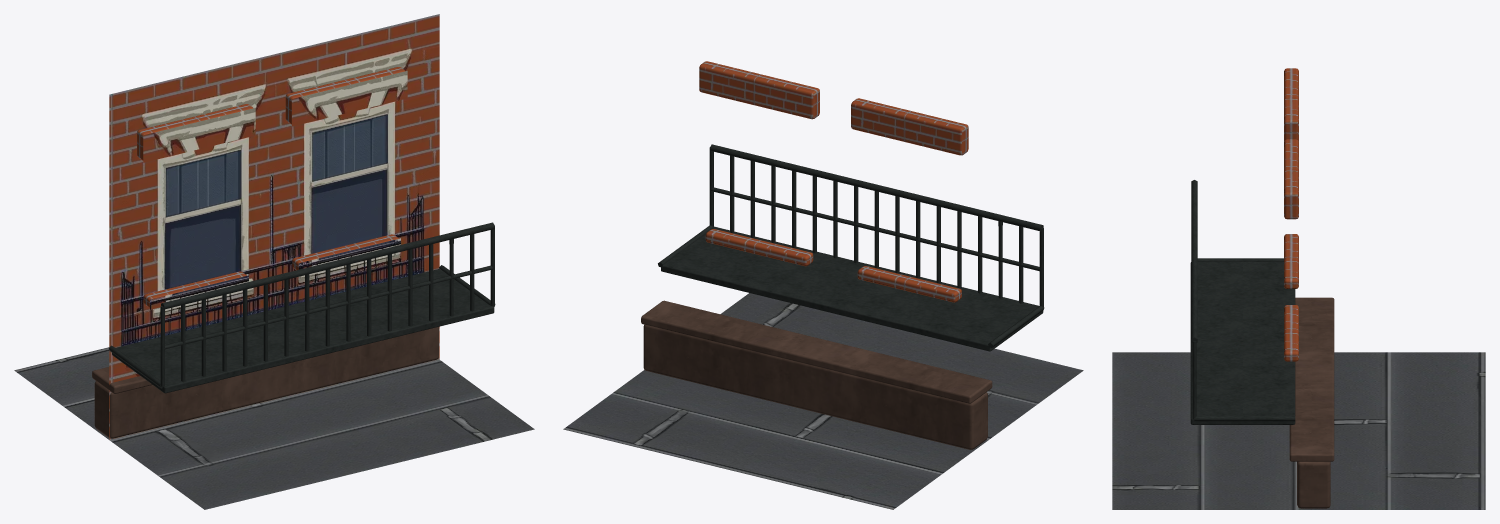
File: town_brick.glb
3 views of the same model, side by side, from view 1: azimuth 30°, elevation 25°; view 2: azimuth 150°, elevation 25°; view 3: azimuth 270°, elevation 25° (orthographic). The views are drawn at different scales.
Parts seen in each view (by area): view 1: prop (×4); view 2: prop (×4); view 3: prop (×4).
Boxes of the visible parts, x1=… form: prop (×4): x1=14, y1=14, x2=534, y2=509; prop (×4): x1=563, y1=61, x2=1083, y2=509; prop (×4): x1=1112, y1=68, x2=1485, y2=509.
Size of the model in its own units: 1.02 by 1 by 1.
4 materials, 4 textured.
